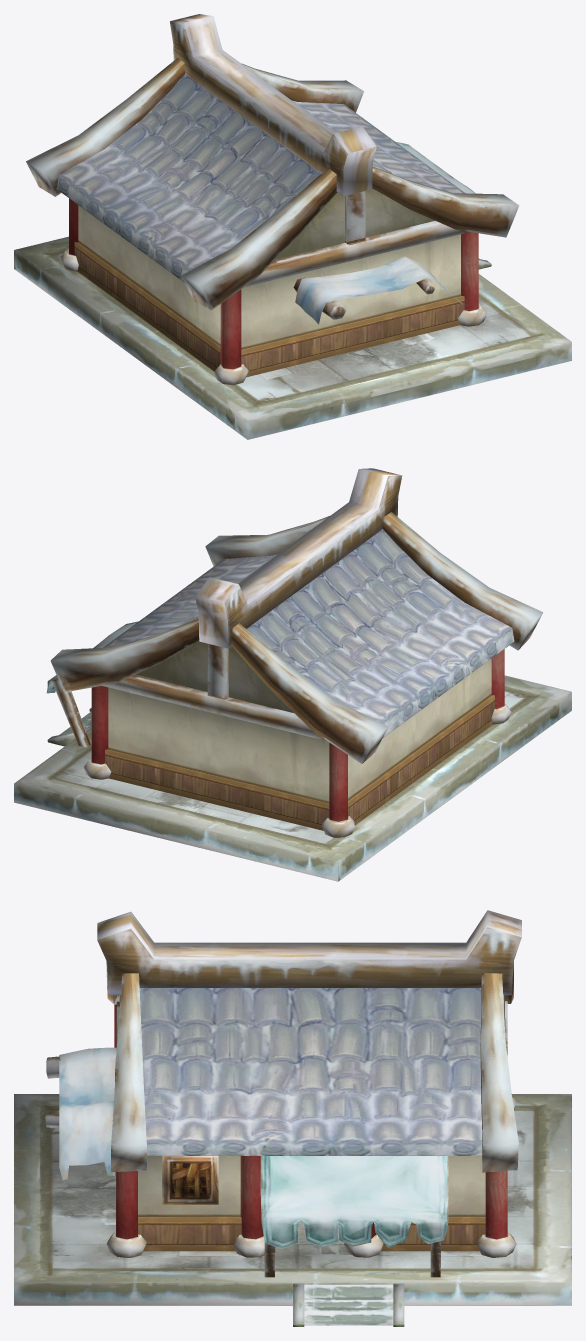
File: SM_House_01.fbx
3 renders of one model, top to bottom at view 1: azimuth 30°, elevation 25°; view 2: azimuth 150°, elevation 25°; view 3: azimuth 270°, elevation 25°, orthographic. The views are drawn at different scales.
Parts seen in each view (by area): view 1: SM_House_01; view 2: SM_House_01; view 3: SM_House_01.
Part boxes in pixels (x1,y1,x2,y2): SM_House_01: (14,14,571,439); SM_House_01: (14,468,571,881); SM_House_01: (14,910,571,1326).
Bounding box in the file's own units: 6.44 × 3.94 × 6.97.
